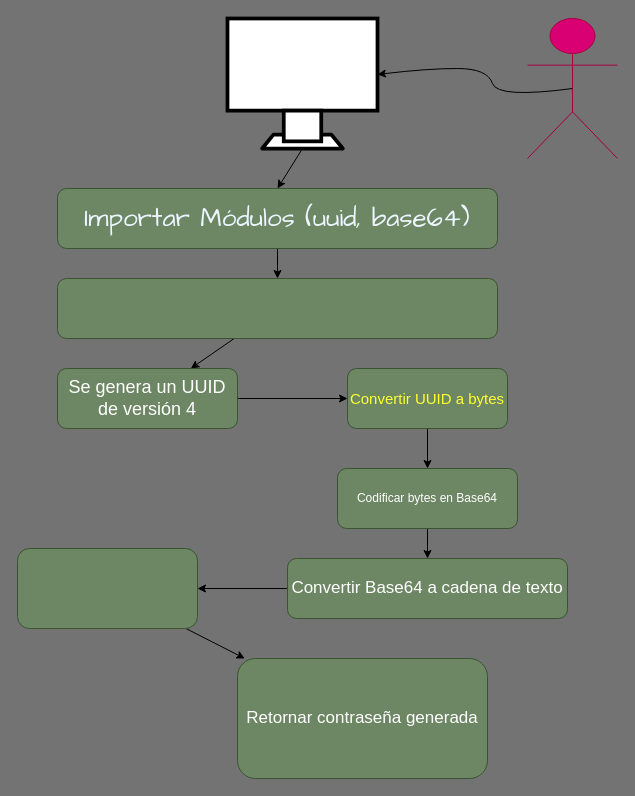
Image size: 635x796. Some labels were removed from this diagram. Each missing label, with the box of its shape:
Actor: (526, 18, 618, 158)
Definir Función generate_password(length=16): (56, 278, 498, 338)
Tomar los primeros length caracteres: (16, 548, 198, 628)
